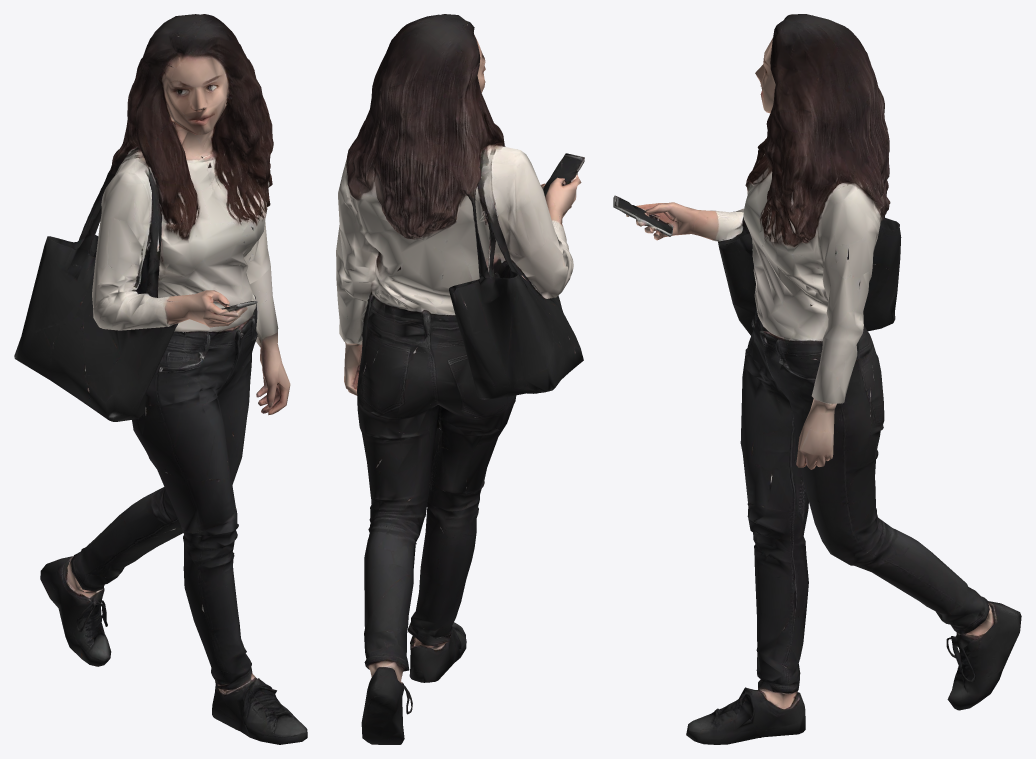
The model's file is dog-walker.glb.
The picture shows the model from 3 angles, left to right: view 1: azimuth 30°, elevation 25°; view 2: azimuth 150°, elevation 25°; view 3: azimuth 270°, elevation 25°; orthographic projection. The views are drawn at different scales.
Bounding box in the file's own units: 0.6968 × 1.9 × 1.01.
1 material, 1 textured.
